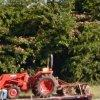Tractor: (0, 63, 65, 99)
